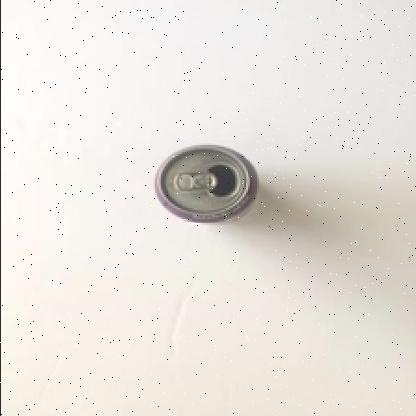Can: (150, 141, 259, 227)
